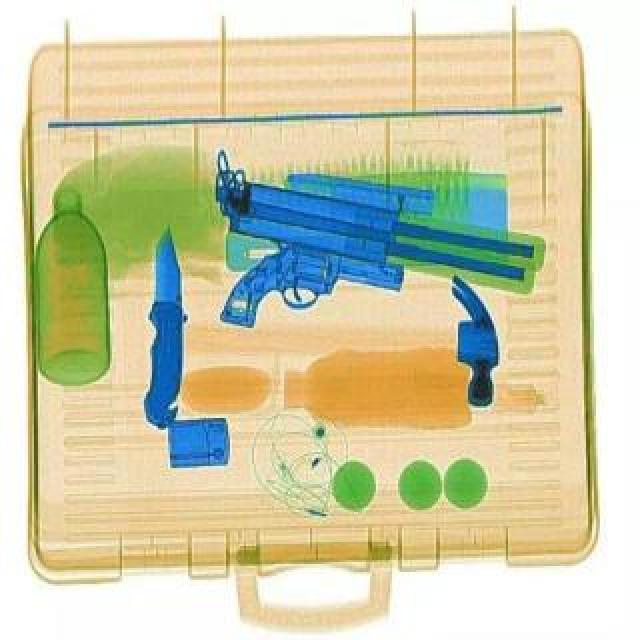gun: (210, 146, 548, 332)
knife: (140, 224, 192, 432)
